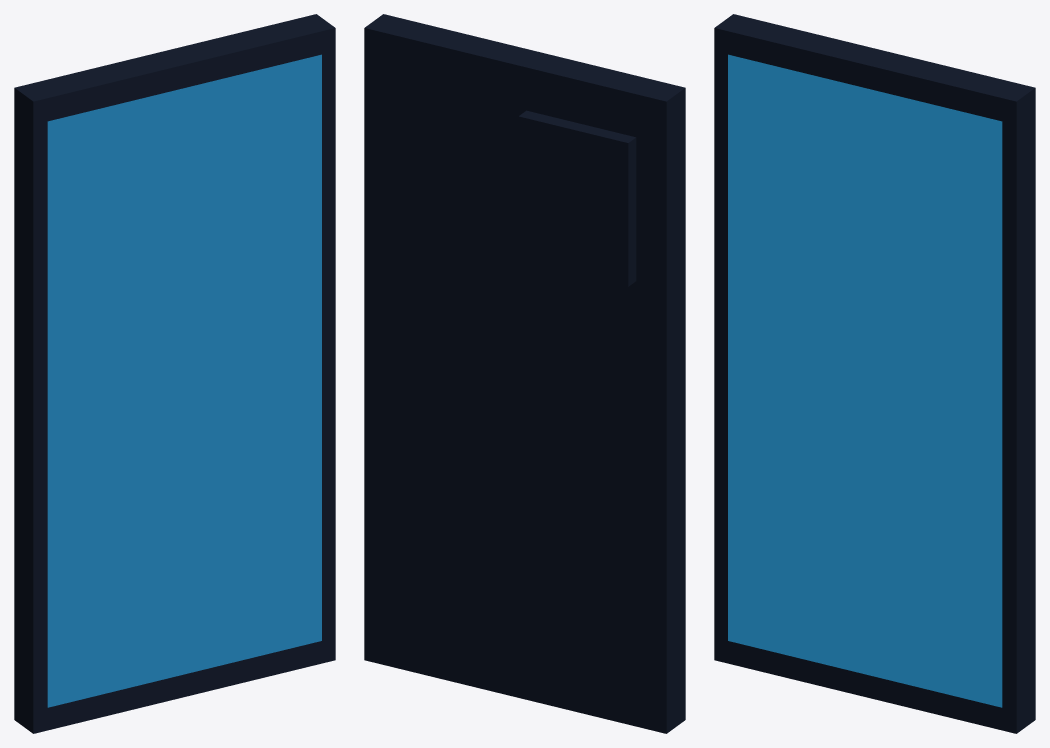
The model's file is smartphone.glb.
3 views of the same model, side by side, from view 1: azimuth 30°, elevation 25°; view 2: azimuth 150°, elevation 25°; view 3: azimuth 330°, elevation 25° (orthographic).
Size of the model in its own units: 0.55 by 1.1 by 0.086.
